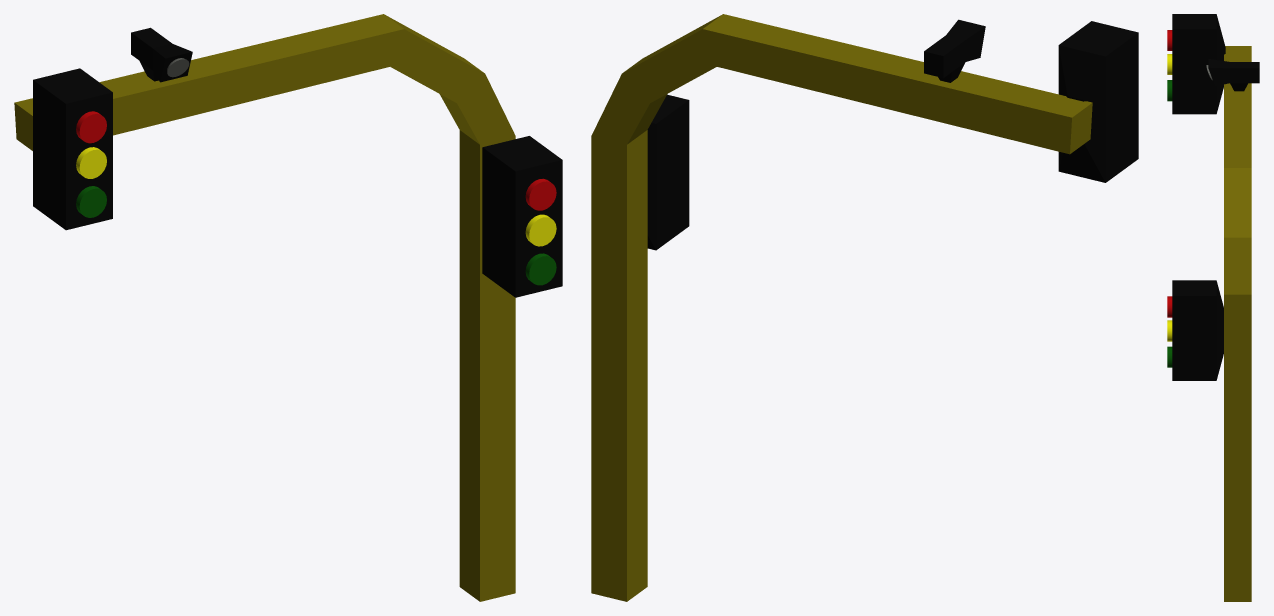
The model's file is semaforo.fbx.
3 views of the same model, side by side, from view 1: azimuth 30°, elevation 25°; view 2: azimuth 150°, elevation 25°; view 3: azimuth 270°, elevation 25° (orthographic). The views are drawn at different scales.
Parts seen in each view (by area): view 1: pCube618, pCube621, pasted__pCube621, pCube620, pCylinder5, pCylinder6, pasted__pCylinder4, pasted__pCylinder5, pasted__pCylinder6, pCylinder4; view 2: pCube618, pasted__pCube621, pCube621, pCube620; view 3: pCube618, pCube621, pasted__pCube621, pCube620.
Boxes of the visible parts, x1,y1,x2,y2 form: pCube618: (14,14,515,601); pCube621: (482,136,562,297); pasted__pCube621: (33,68,112,230); pCube620: (131,27,192,82); pCylinder5: (525,214,556,246); pCylinder6: (525,253,556,285); pasted__pCylinder4: (76,111,106,143); pasted__pCylinder5: (76,147,106,178); pasted__pCylinder6: (76,186,106,217); pCylinder4: (525,178,556,210); pCube618: (591,14,1092,601); pasted__pCube621: (1058,21,1138,182); pCube621: (647,94,689,250); pCube620: (924,19,985,82); pCube618: (1224,46,1251,601); pCube621: (1172,280,1223,380); pasted__pCube621: (1172,14,1225,114); pCube620: (1208,59,1259,91).
Bounding box in the file's own units: 13.92 × 17.05 × 3.33.
